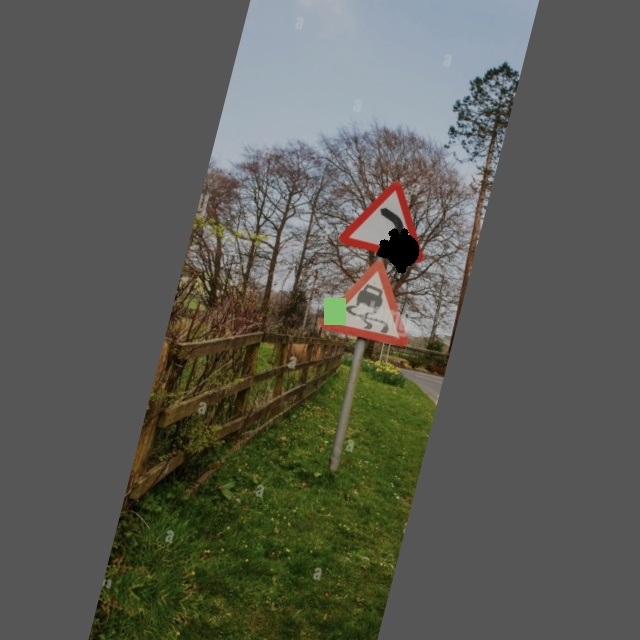Slippery_Road: (320, 250, 423, 353)
